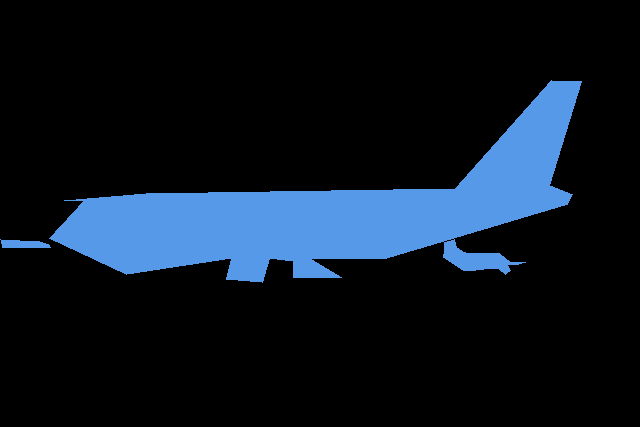Airplane: (49, 80, 582, 282), (443, 239, 526, 275), (0, 239, 50, 248)
